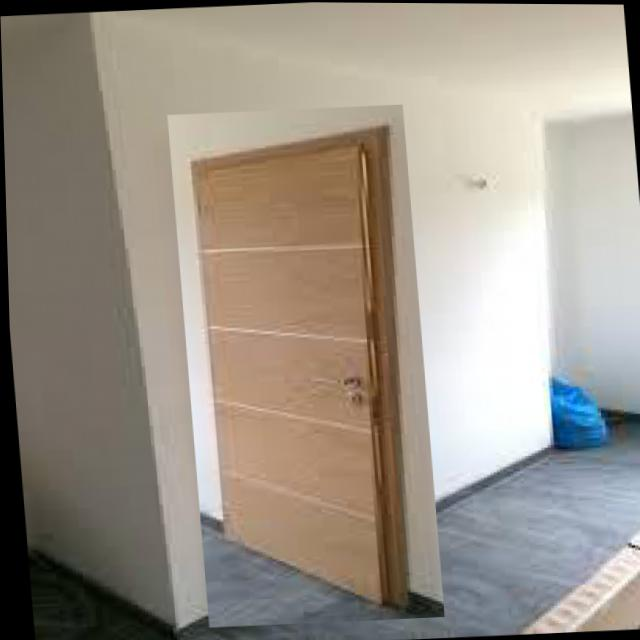close: (166, 102, 443, 630)
